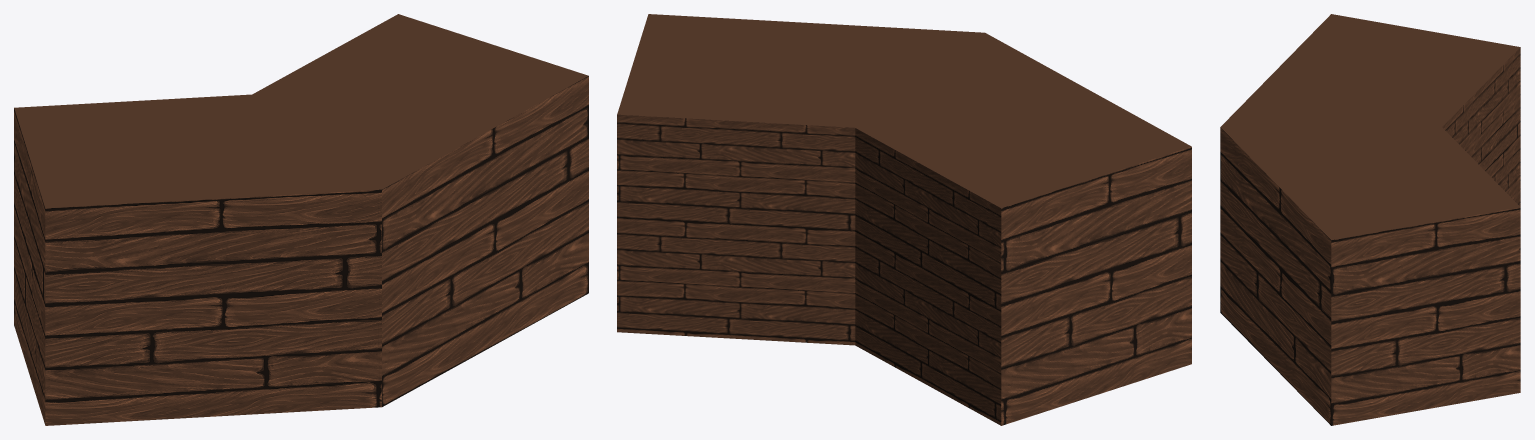
The model's file is Muro_angolo_45_gradi_2.fbx.
The picture shows the model from 3 angles, left to right: view 1: azimuth 30°, elevation 25°; view 2: azimuth 150°, elevation 25°; view 3: azimuth 270°, elevation 25°; orthographic projection. The views are drawn at different scales.
Parts seen in each view (by area): view 1: Muro_angolo_45_gradi; view 2: Muro_angolo_45_gradi; view 3: Muro_angolo_45_gradi.
Part boxes in pixels (x1,y1,x2,y2): Muro_angolo_45_gradi: (14, 14, 588, 425); Muro_angolo_45_gradi: (617, 14, 1191, 425); Muro_angolo_45_gradi: (1220, 14, 1520, 425).
Size of the model in its own units: 523 by 200 by 293.
Materials: 2 (2 with a texture image).
